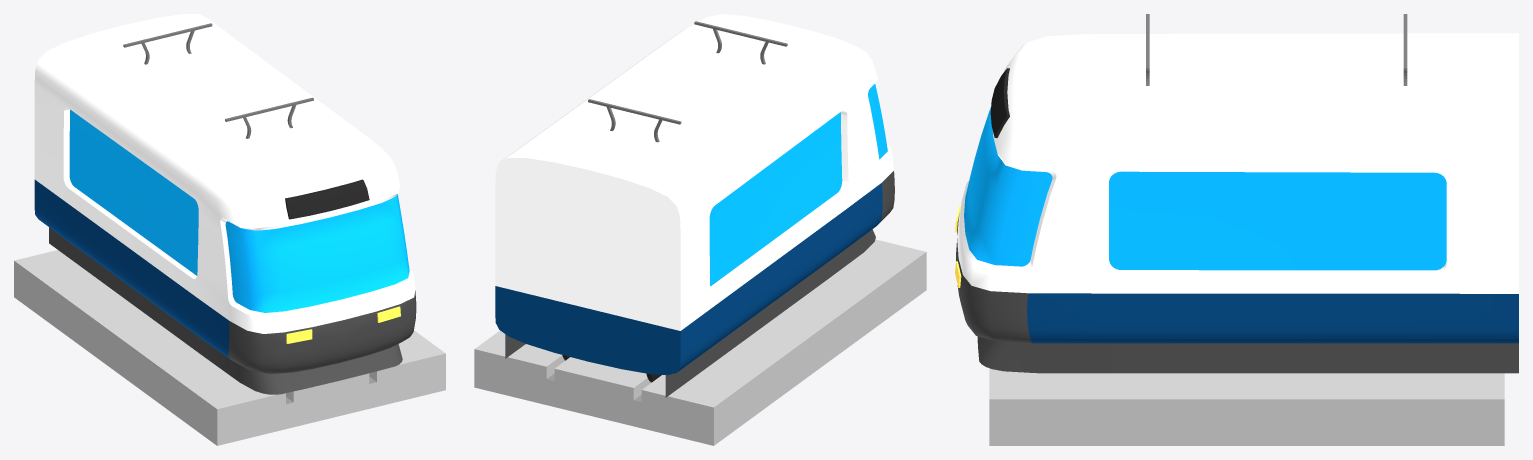
File: tram.glb
3 views of the same model, side by side, from view 1: azimuth 30°, elevation 25°; view 2: azimuth 150°, elevation 25°; view 3: azimuth 270°, elevation 25° (orthographic). The views are drawn at different scales.
Parts seen in each view (by area): view 1: Cube.585; view 2: Cube.585; view 3: Cube.585.
Part boxes in pixels (x1,y1,x2,y2): Cube.585: (14,14,445,445); Cube.585: (474,14,926,445); Cube.585: (955,14,1518,445).
Size of the model in its own units: 1.56 by 1.73 by 2.63.
Materials: 1 (1 with a texture image).
